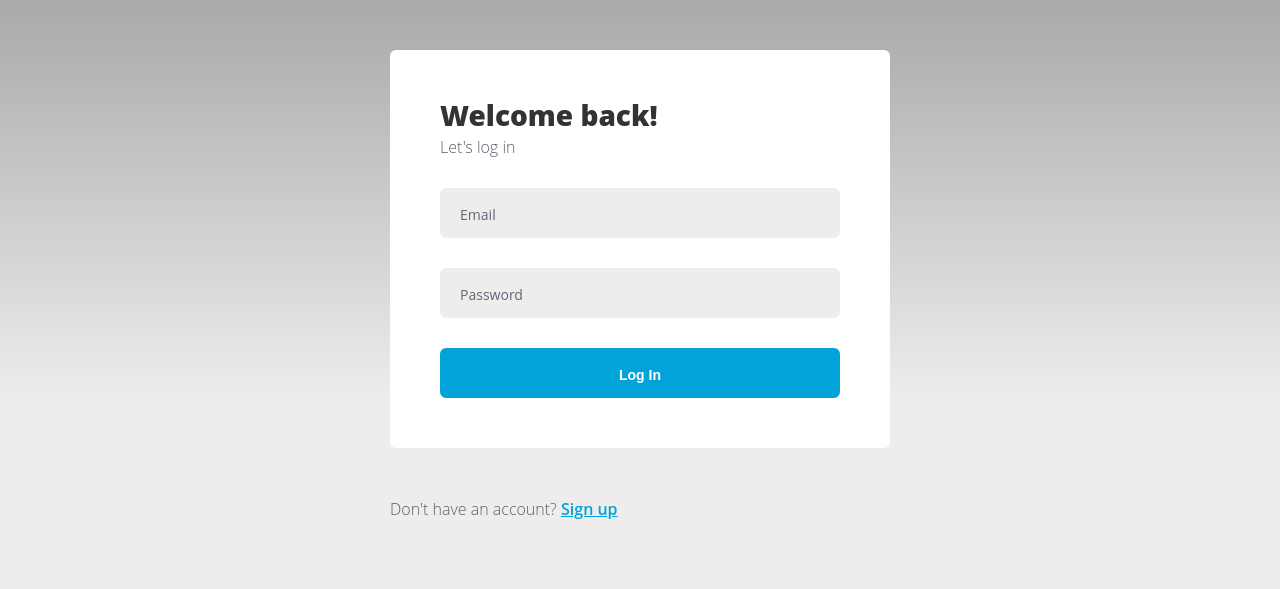
Scenario: Login › should display API error messages when unsuccessful
In the field named "Email": (640, 213) [440,188,840,238], type "celine@test.com"
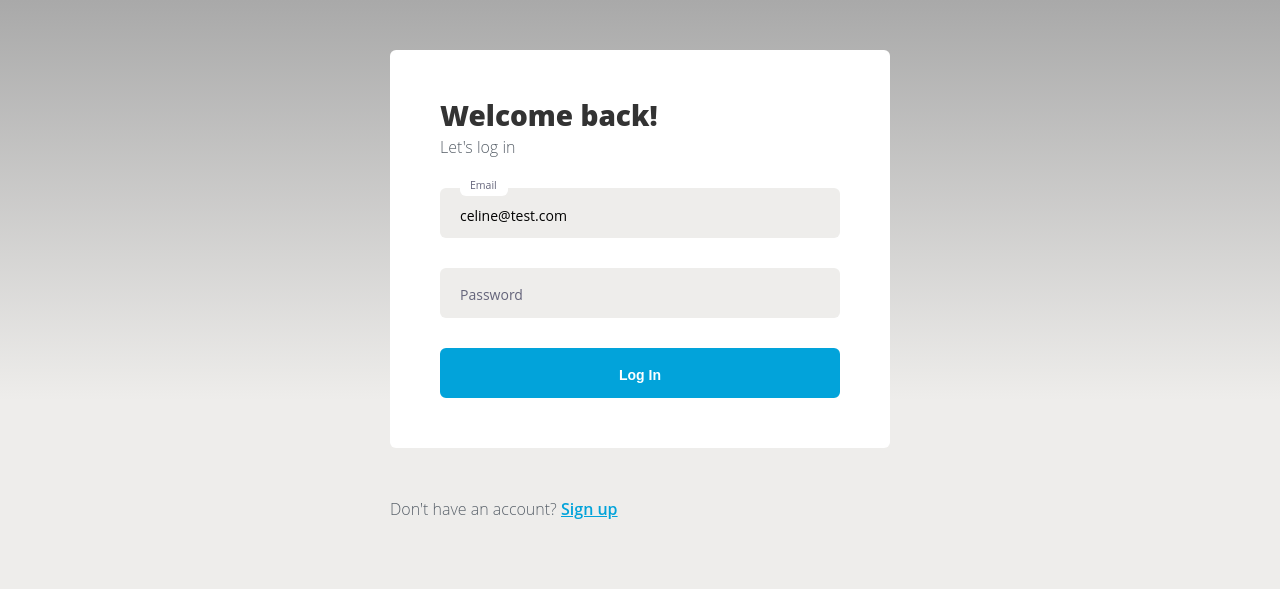
In the password field named "Password": (640, 293) [440,268,840,318], type "abcd12345"
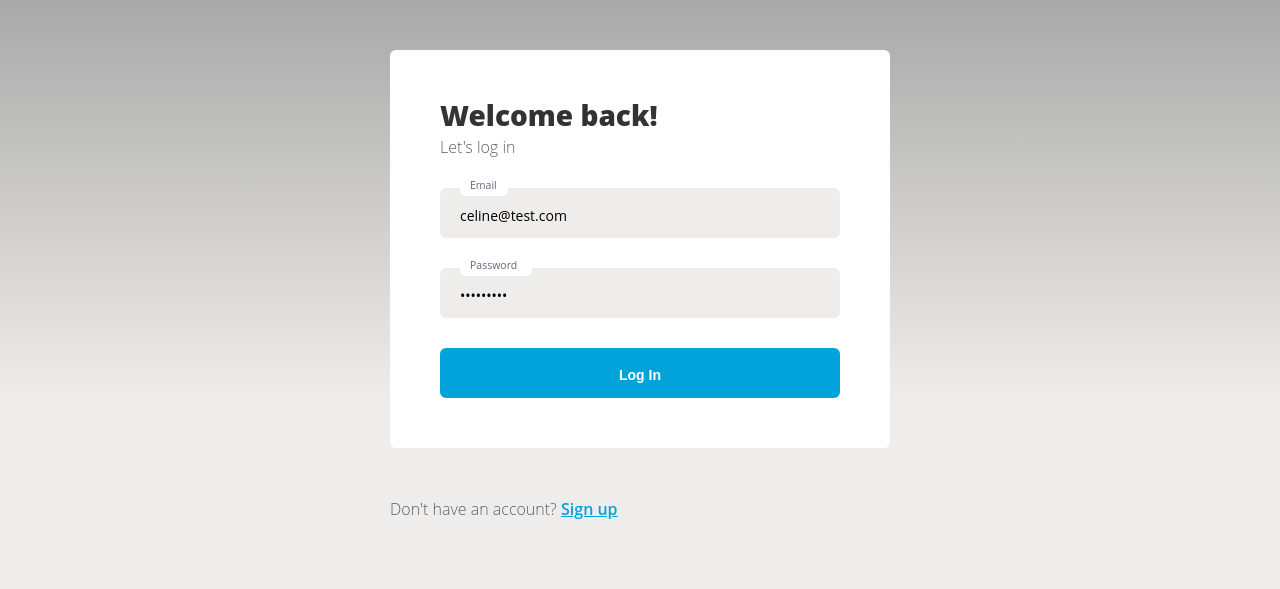
Click the button "Log In": (640, 373) [440,348,840,398]
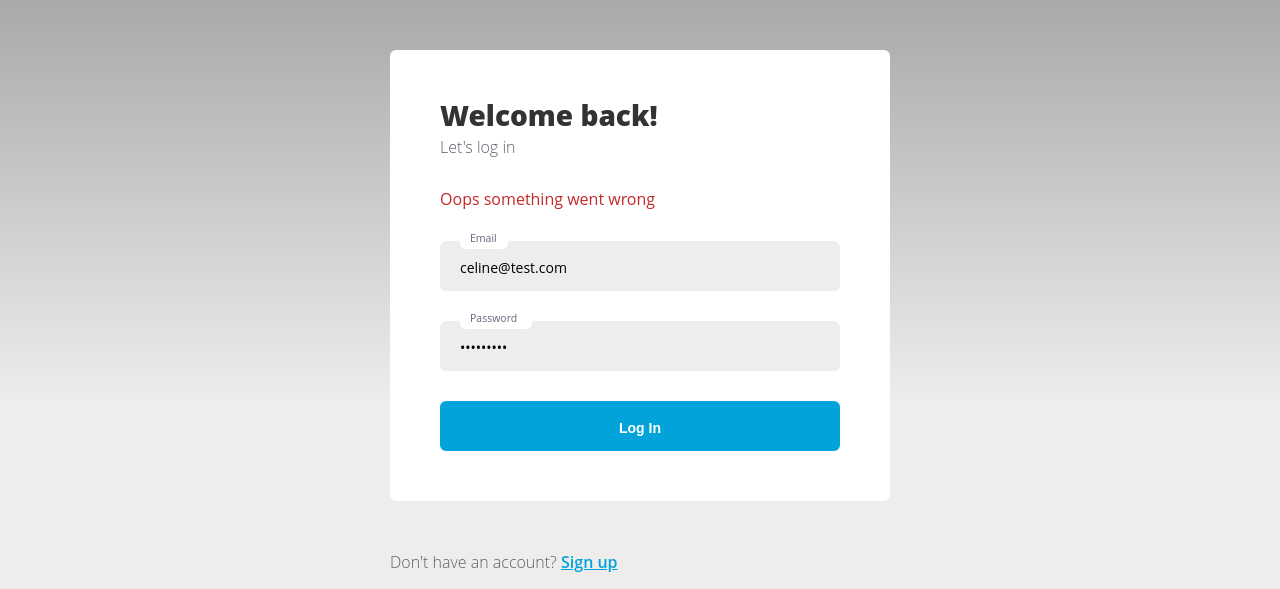
expect the text "Oops something went wrong" is shown: met, box [440,188,655,210]
